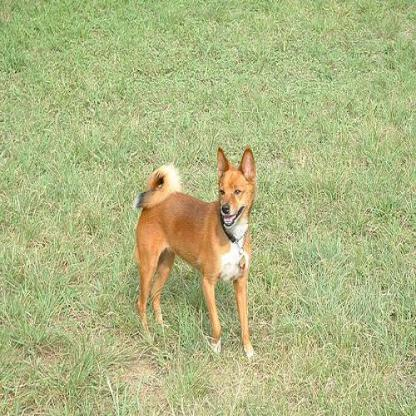basenji: (134, 145, 257, 363)
